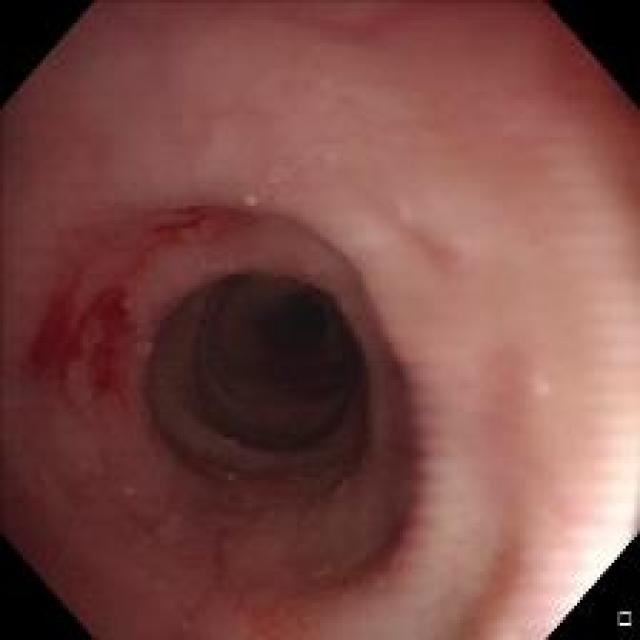blood: (24, 276, 139, 404), (151, 208, 211, 240)
contrast: (194, 279, 360, 471)
saturation: (532, 505, 636, 625)
